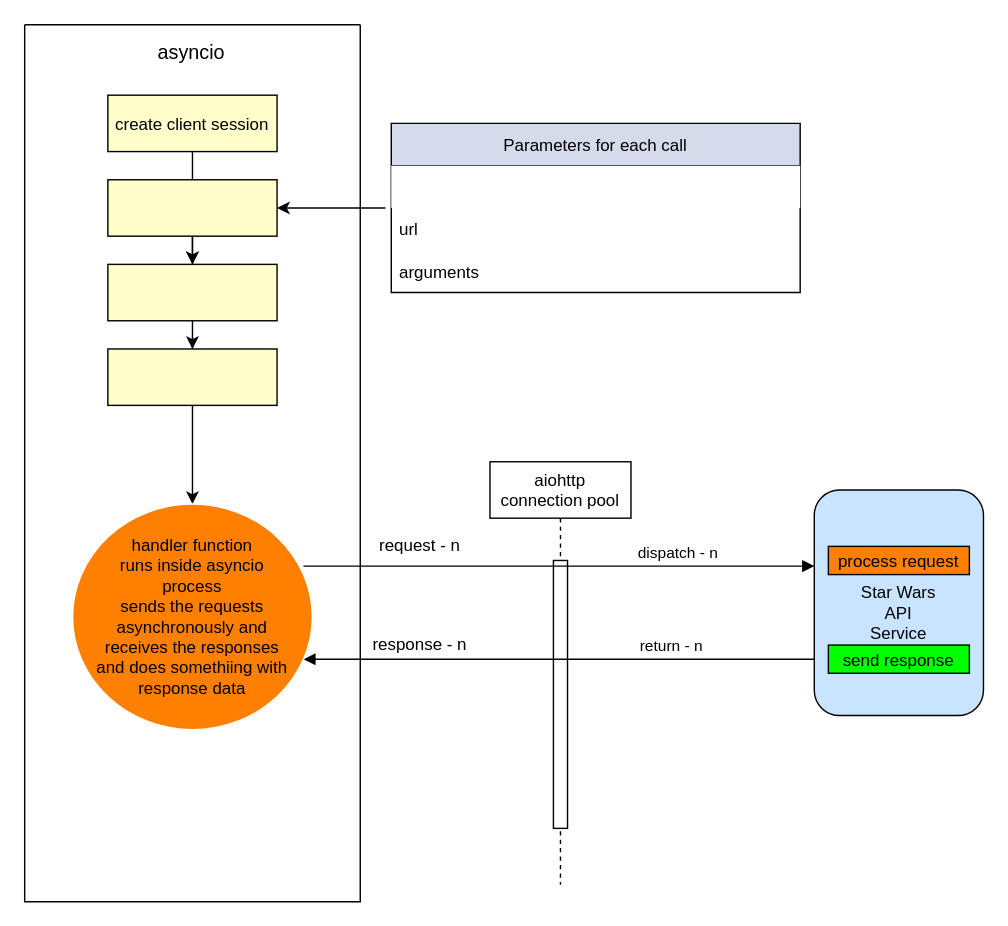
The diagram is 1008 pixels wide and 926 high, and some of its shapes have lost their labels. The centre of each missing label's shape, as x and y in pixels:
Add urls to call list: point 191,207
call asyncio.gather(calls): point 191,376
handler function - handles requests and responses: point 595,186
Run asyncio: point 191,292
